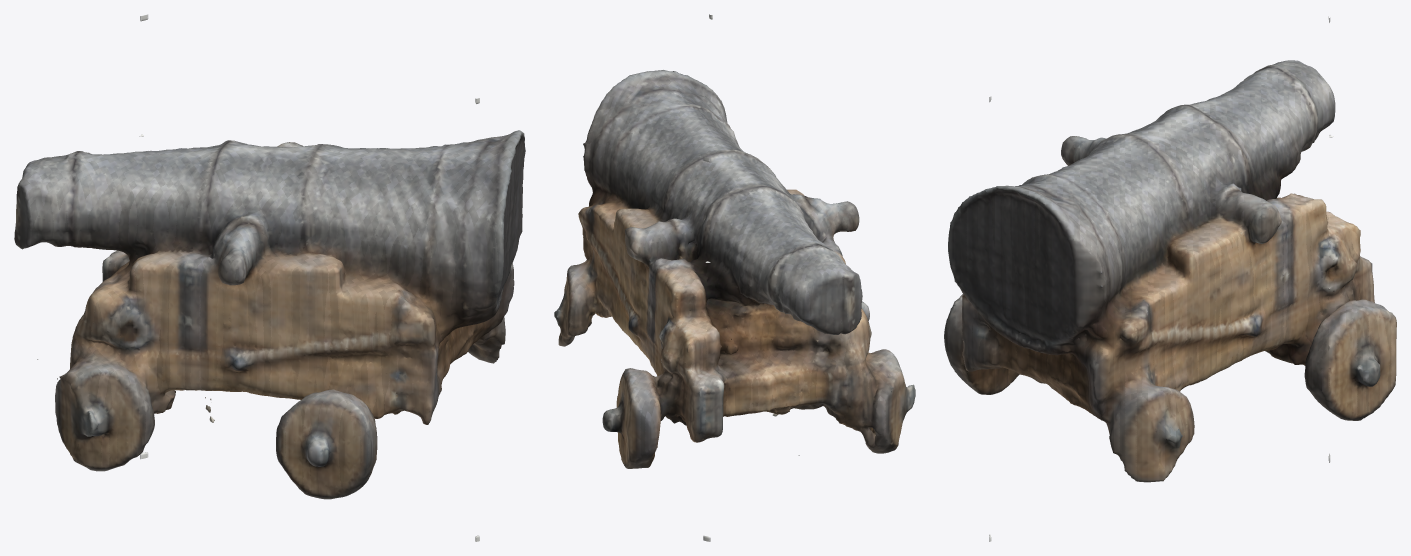
The model's file is SM_naval_cannon.gltf.
3 renders of one model, left to right at view 1: azimuth 30°, elevation 25°; view 2: azimuth 150°, elevation 25°; view 3: azimuth 270°, elevation 25°, orthographic. The views are drawn at different scales.
Parts seen in each view (by area): view 1: world; view 2: world; view 3: world.
Boxes of the visible parts, <box> form: world: <box>14,14,525,541</box>; world: <box>554,14,915,541</box>; world: <box>944,16,1396,541</box>.
Bounding box in the file's own units: 2 × 2.09 × 1.92.
Materials: 1 (1 with a texture image).
